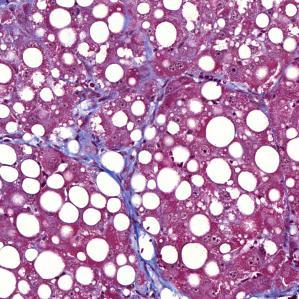fibrosis: (57, 122, 139, 176), (136, 228, 174, 297)
